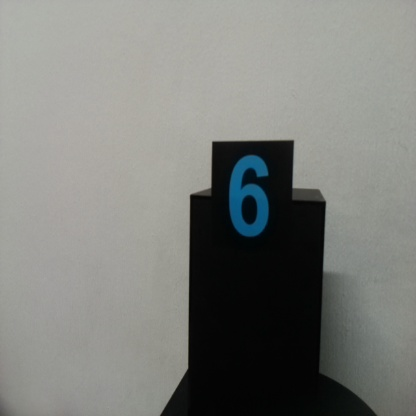id_6: (212, 142, 294, 269)
